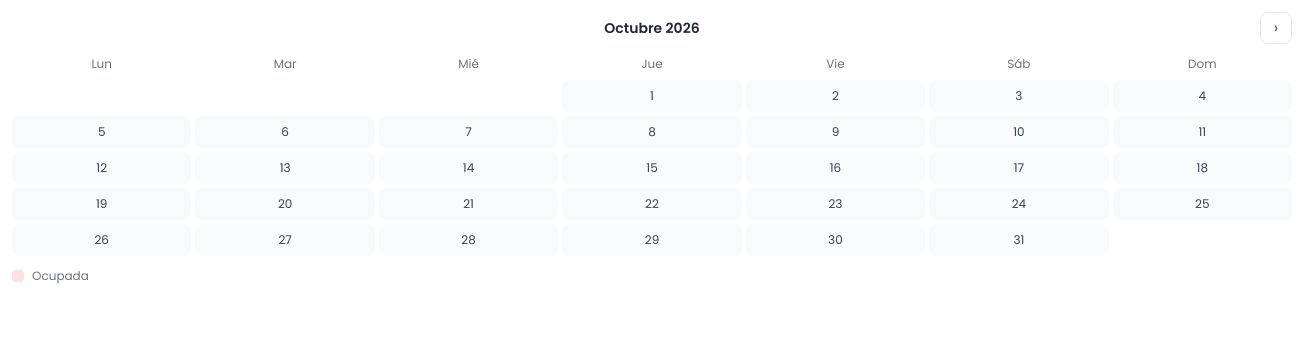
Test: AvailabilityCalendar month navigation (HUC-03 S2, RB-4) › shows a range that lives in the next month only after navigating forward
This screenshot has width=1304, height=337.
Expected: the button "12" is enabled, [12,152,191,184]
Step 1. Click the button named "Mes siguiente" → point(1276, 28), box [1260,12,1292,44]
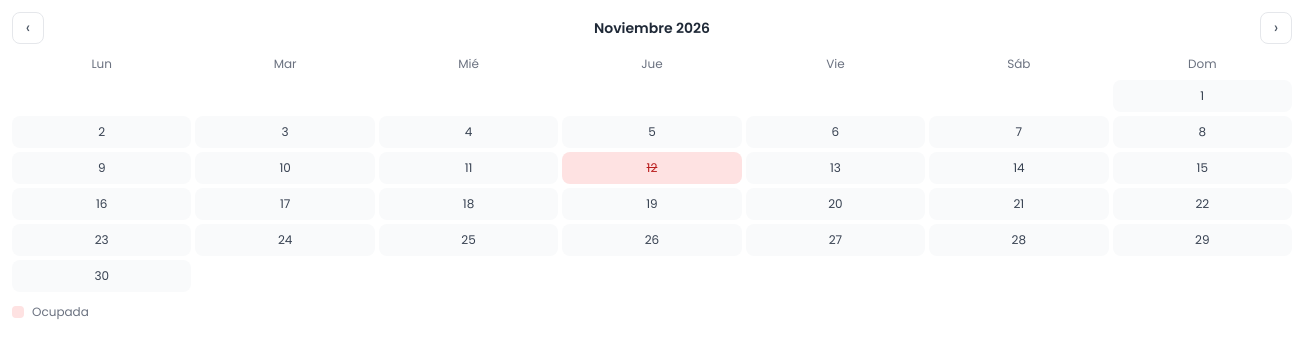
Expected: the button "12" is disabled, [562,152,742,184]
